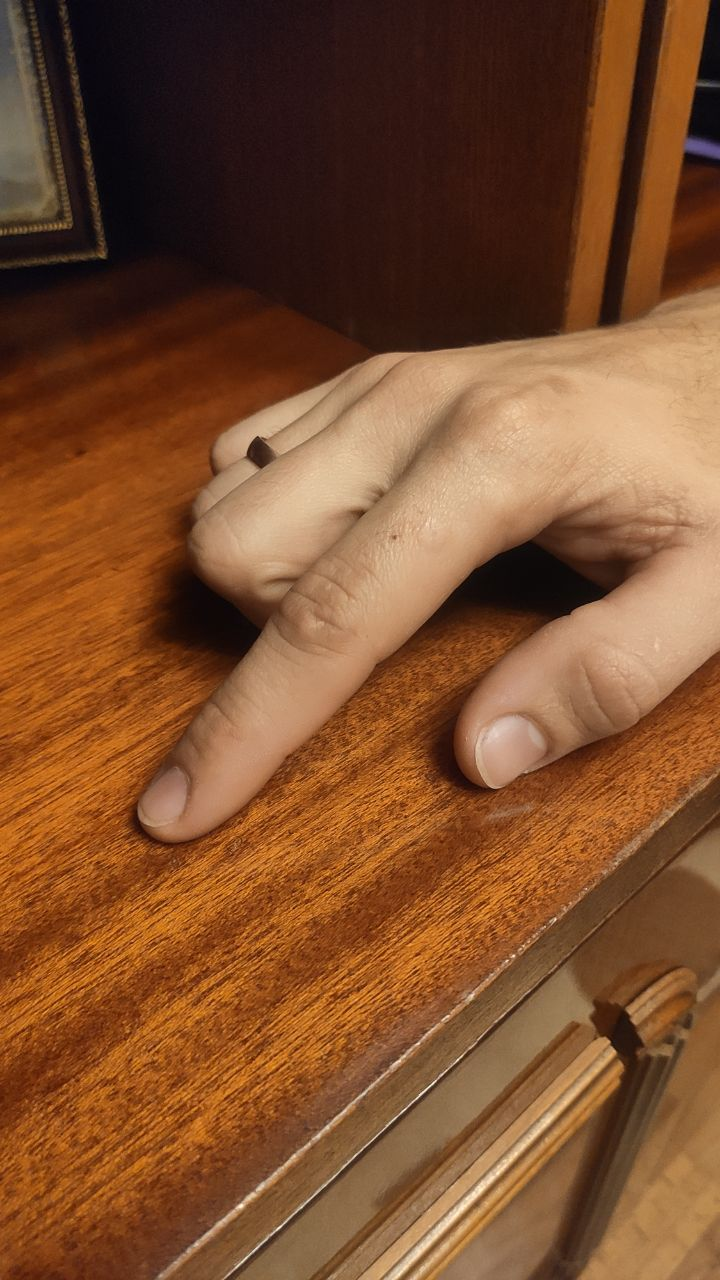finger: (133, 747, 231, 843)
